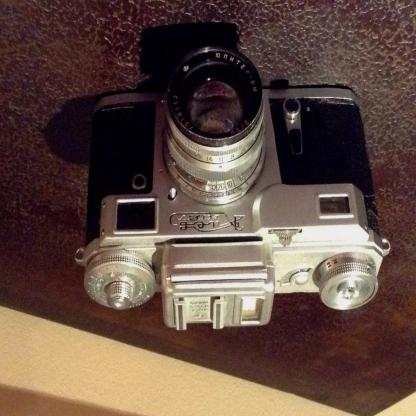Camera: (61, 37, 388, 359)
